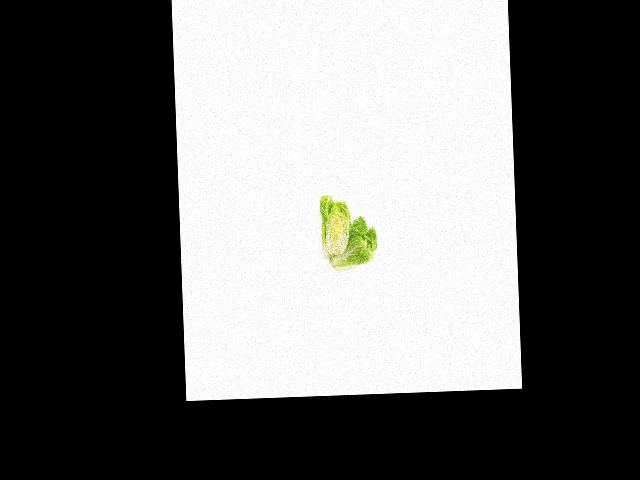lettuce: (325, 212, 380, 272)
